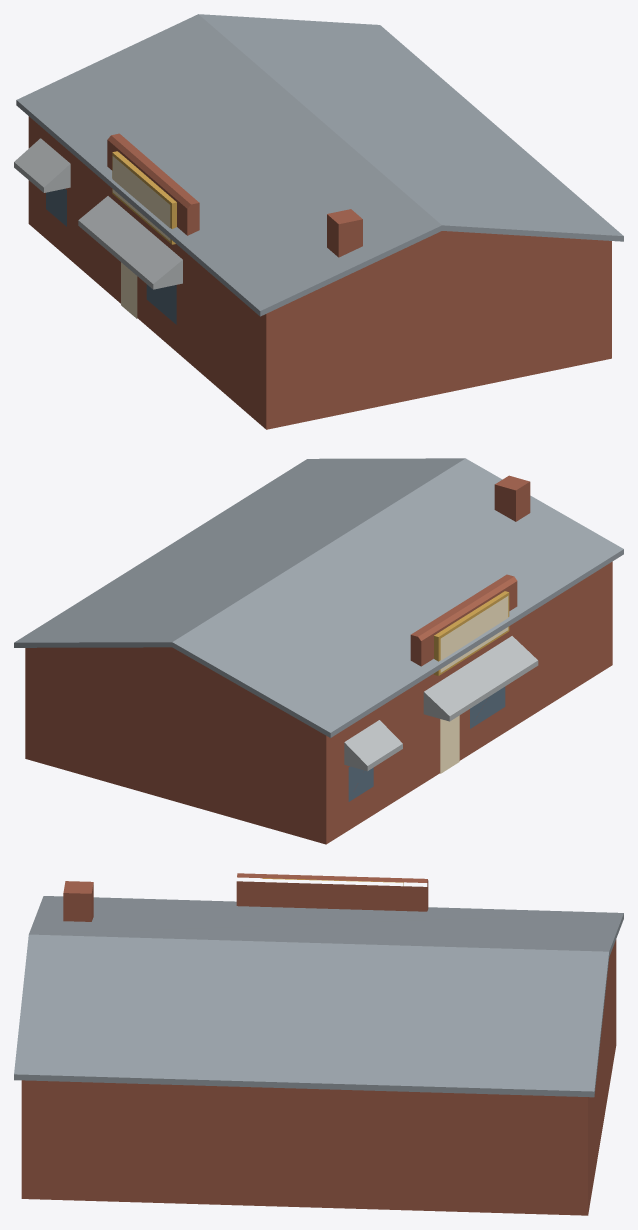
File: detail.glb
3 views of the same model, one above another, from view 1: azimuth 30°, elevation 25°; view 2: azimuth 150°, elevation 25°; view 3: azimuth 270°, elevation 25° (orthographic). The views are drawn at different scales.
Visible parts, largest first — view 1: snug-harbor; view 2: snug-harbor; view 3: snug-harbor.
Boxes of the visible parts, bbox=[...] form: snug-harbor: bbox=[14, 14, 623, 429]; snug-harbor: bbox=[14, 458, 623, 844]; snug-harbor: bbox=[14, 873, 623, 1215].
Size of the model in its own units: 13.37 by 5.9 by 17.26.
